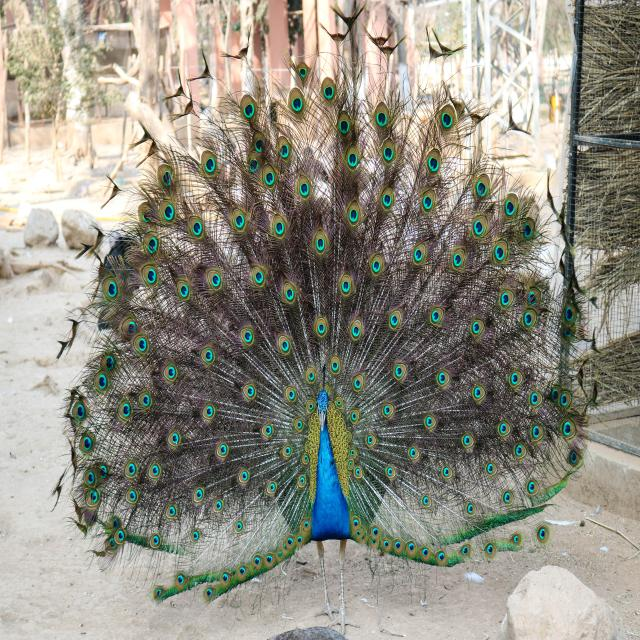mallard: (46, 64, 612, 617)
